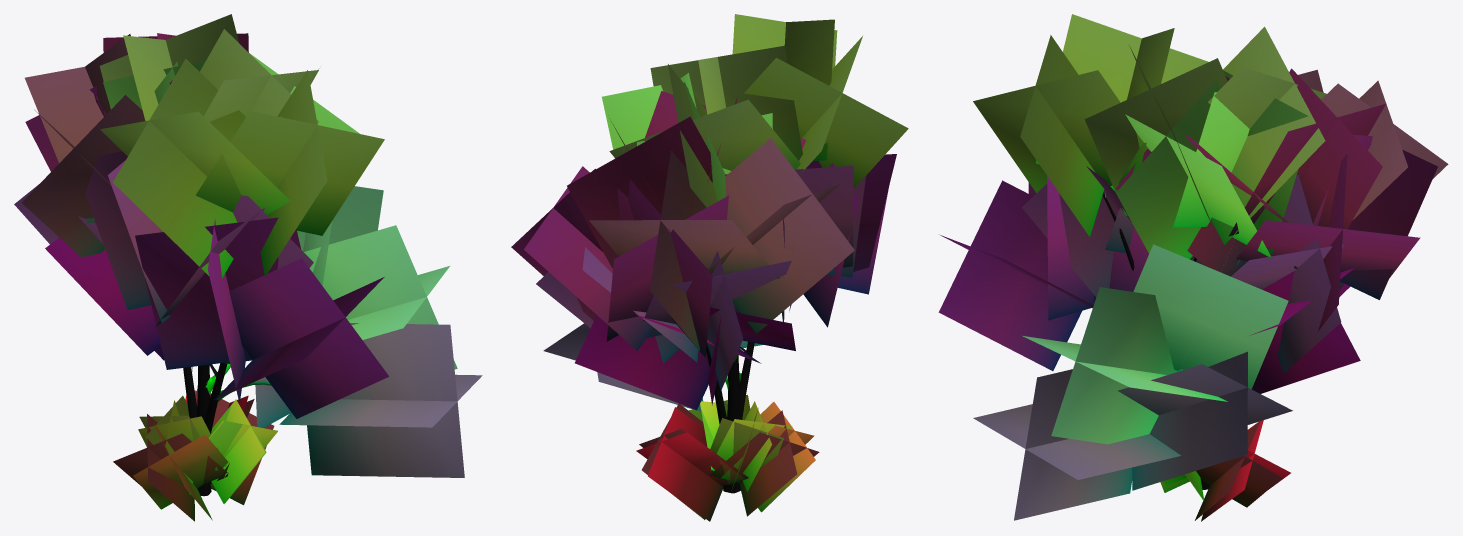
Rendered from URP_P12_Tree_10_LOD_0.fbx.
3 views of the same model, side by side, from view 1: azimuth 30°, elevation 25°; view 2: azimuth 150°, elevation 25°; view 3: azimuth 270°, elevation 25° (orthographic). The views are drawn at different scales.
Visible parts, largest first — view 1: Tree_10_LOD_0; view 2: Tree_10_LOD_0; view 3: Tree_10_LOD_0.
Boxes of the visible parts, x1=… form: Tree_10_LOD_0: x1=14, y1=14, x2=482, y2=521; Tree_10_LOD_0: x1=511, y1=14, x2=908, y2=521; Tree_10_LOD_0: x1=938, y1=14, x2=1448, y2=521.
Size of the model in its own units: 179 by 217 by 218.
